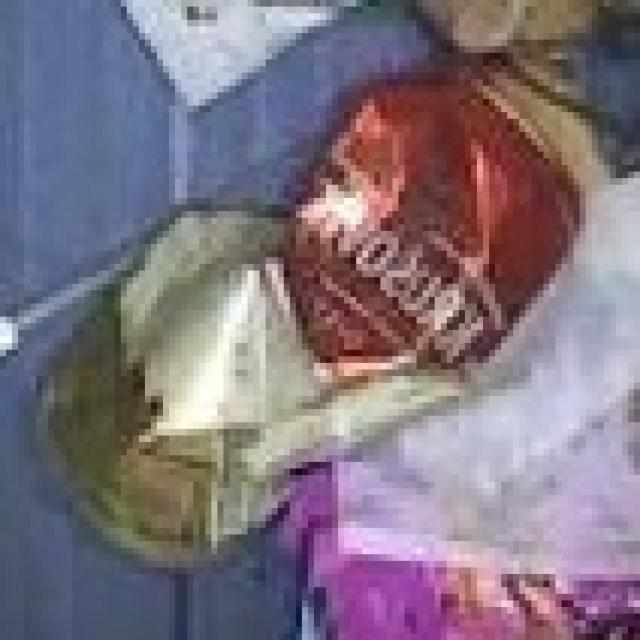litter: (38, 56, 583, 554)
